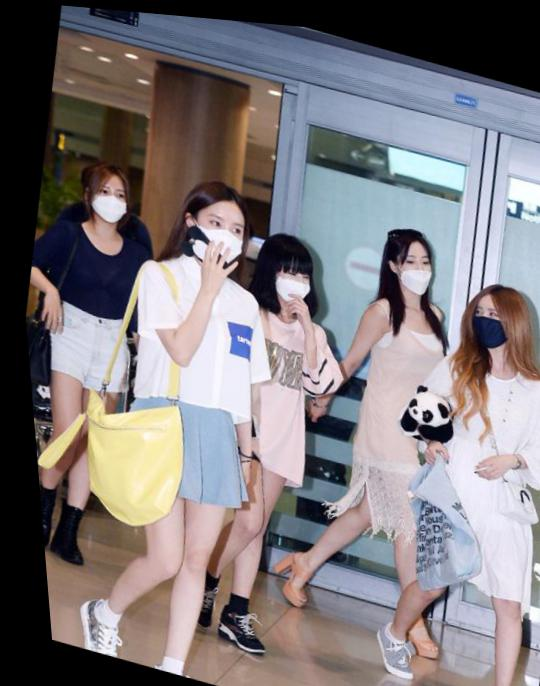OK: (184, 200, 257, 274), (457, 289, 516, 348), (261, 250, 317, 305), (80, 175, 130, 226)
WRONG: (380, 235, 438, 294)
